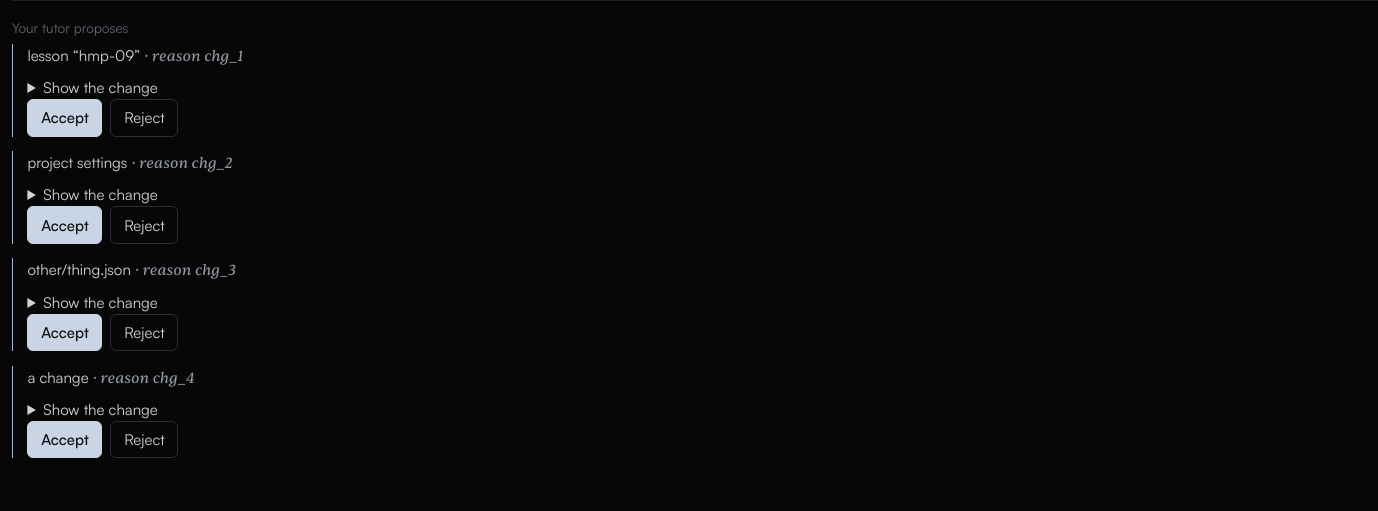
Proposals › lists pending changes in words and accepts or rejects them inline
What coordinates should you click on to do the following:
click the button "Accept" below "lesson “hmp-09”"
I would click on:
 (65, 118)
Its box is [27,99,102,137].
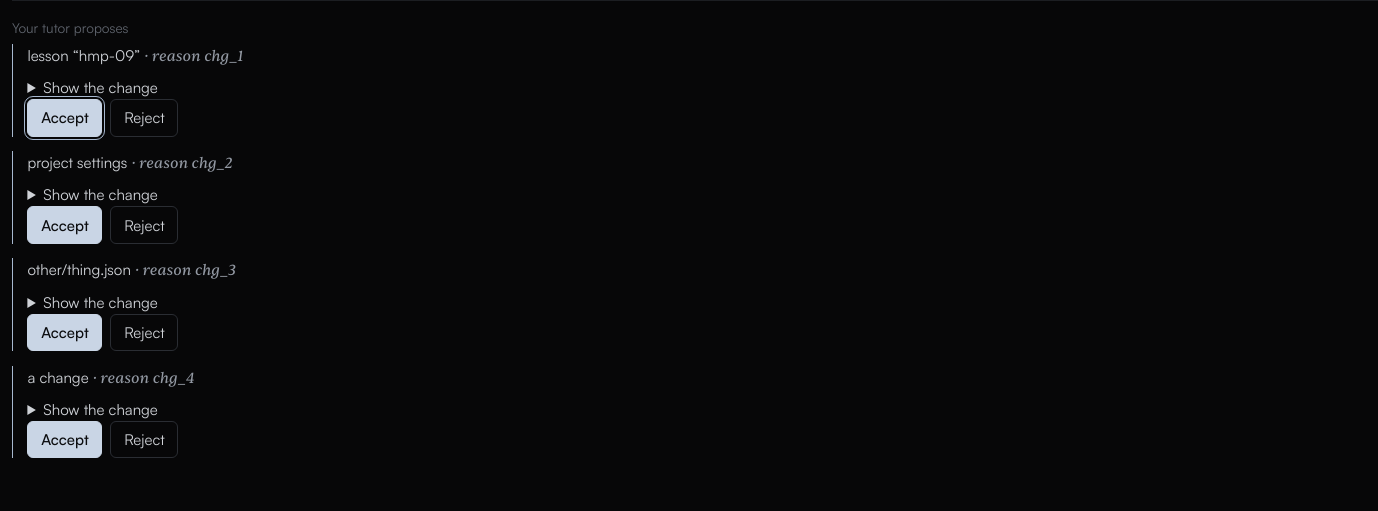
What coordinates should you click on to do the following:
click the button "Reject" below "lesson “hmp-09”"
I would click on:
 (144, 118)
Its box is [110,99,178,137].
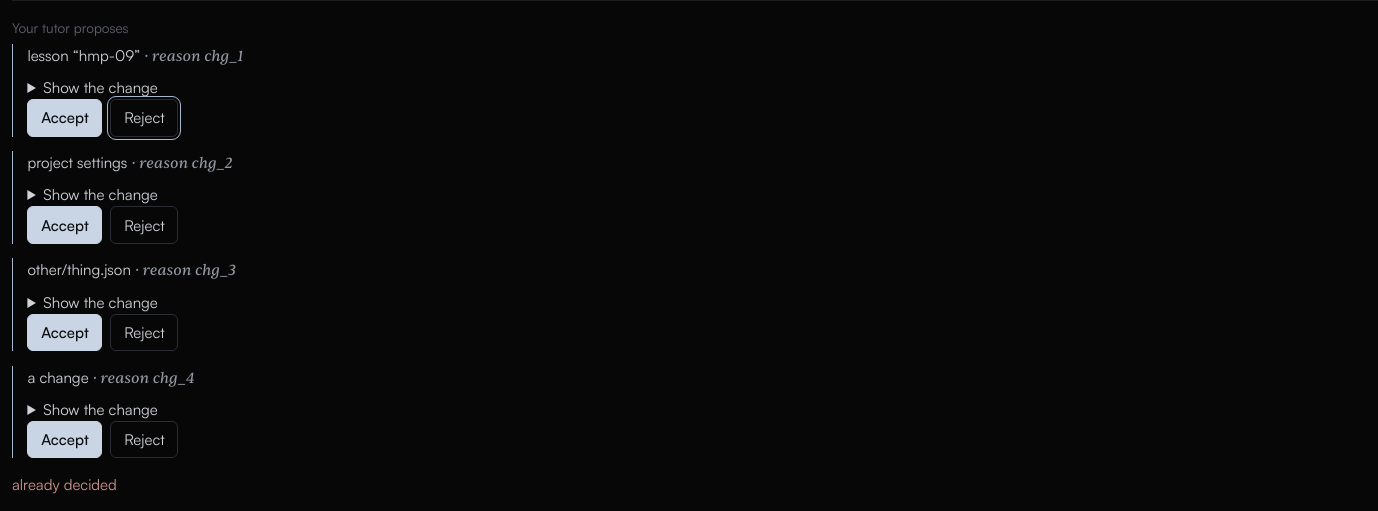
Expected: the message reads "already decided", [12,476,117,494]
